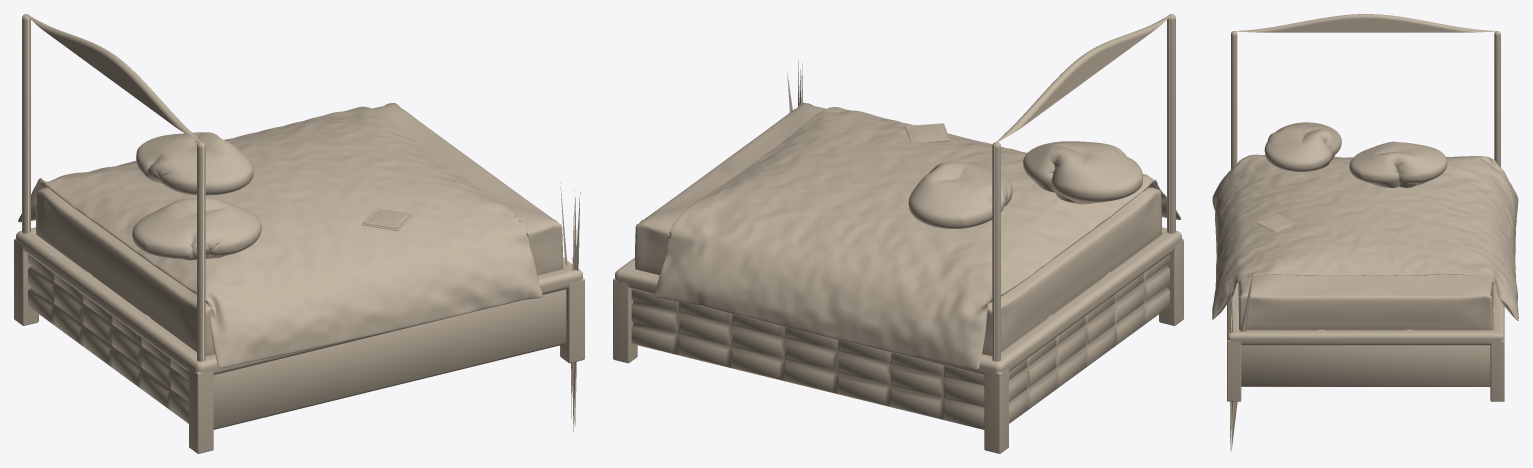
The model's file is 3dcodebench_Bed_seed0.glb.
3 renders of one model, left to right at view 1: azimuth 30°, elevation 25°; view 2: azimuth 150°, elevation 25°; view 3: azimuth 270°, elevation 25°, orthographic. The views are drawn at different scales.
Parts seen in each view (by area): view 1: object; view 2: object; view 3: object.
Part boxes in pixels (x1,y1,x2,y2): object: (14, 14, 584, 453); object: (613, 14, 1183, 453); object: (1212, 14, 1518, 451).
Bounding box in the file's own units: 2.32 × 2.26 × 2.08.
